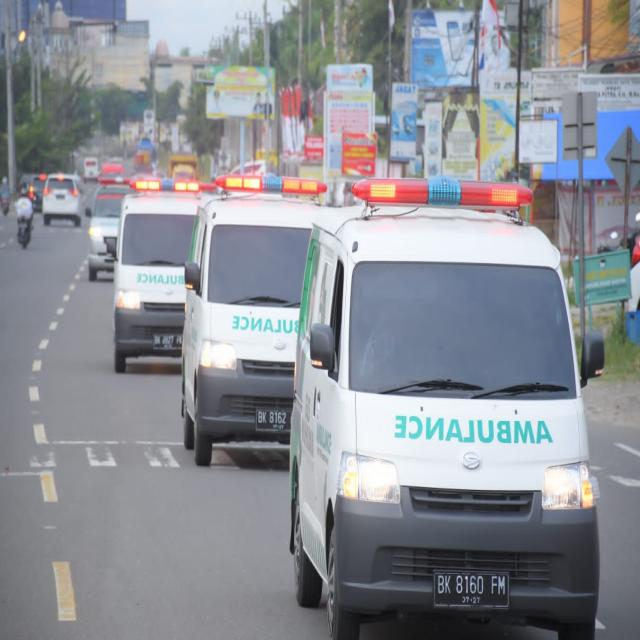ambulance: (288, 172, 607, 640)
